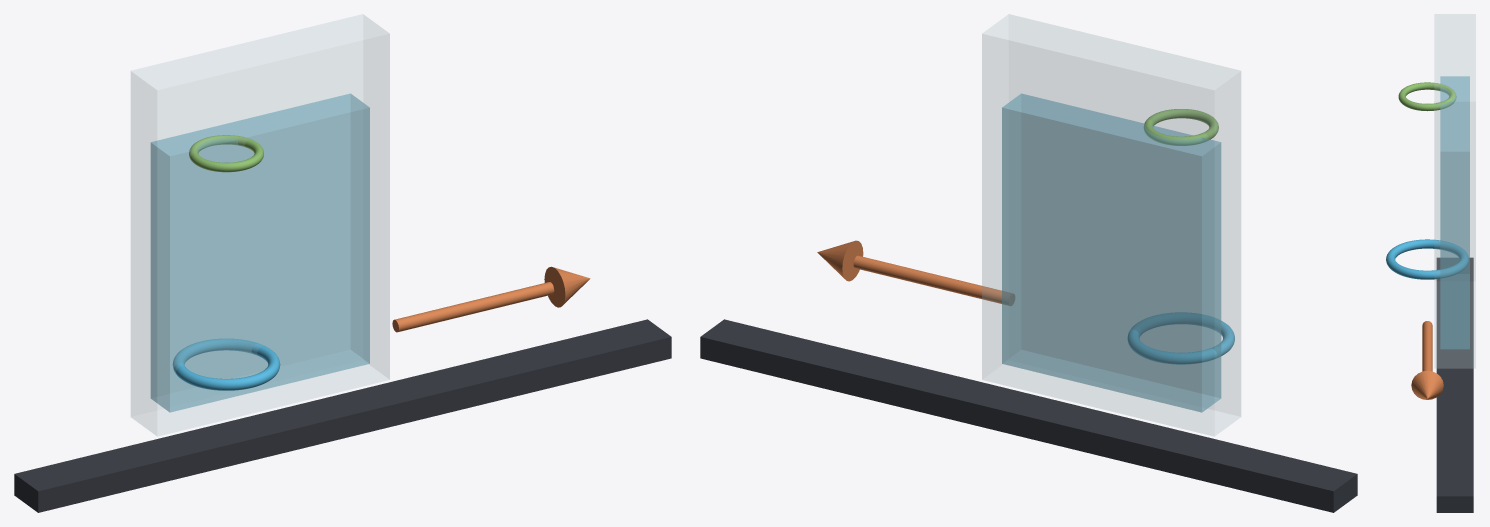
The model's file is physics-fluids-pressure.glb.
3 views of the same model, side by side, from view 1: azimuth 30°, elevation 25°; view 2: azimuth 150°, elevation 25°; view 3: azimuth 270°, elevation 25° (orthographic). The views are drawn at different scales.
Visible parts, largest first — view 1: pressure-depth-tank-glass-back, pressure-depth-tank-water-column, fluid-lab-bench, deep-gauge-high-pressure, side-push-jet-from-depth-shaft, surface-gauge-low-pressure, side-push-jet-from-depth-head; view 2: pressure-depth-tank-glass-back, pressure-depth-tank-water-column, fluid-lab-bench, deep-gauge-high-pressure, side-push-jet-from-depth-shaft, surface-gauge-low-pressure, side-push-jet-from-depth-head; view 3: pressure-depth-tank-glass-back, fluid-lab-bench, pressure-depth-tank-water-column, deep-gauge-high-pressure, surface-gauge-low-pressure, side-push-jet-from-depth-head, side-push-jet-from-depth-shaft.
Boxes of the visible parts, x1,y1,x2,y2 form: pressure-depth-tank-glass-back: (131,14,389,436); pressure-depth-tank-water-column: (150,93,369,412); fluid-lab-bench: (14,319,671,512); deep-gauge-high-pressure: (172,338,280,390); side-push-jet-from-depth-shaft: (392,282,554,332); surface-gauge-low-pressure: (189,135,263,172); side-push-jet-from-depth-head: (544,266,590,307); pressure-depth-tank-glass-back: (982,14,1240,436); pressure-depth-tank-water-column: (1002,93,1221,412); fluid-lab-bench: (700,319,1357,512); deep-gauge-high-pressure: (1127,312,1234,364); side-push-jet-from-depth-shaft: (853,255,1014,305); surface-gauge-low-pressure: (1143,109,1218,145); side-push-jet-from-depth-head: (817,240,863,281); pressure-depth-tank-glass-back: (1434,14,1475,368); fluid-lab-bench: (1436,257,1473,512); pressure-depth-tank-water-column: (1440,76,1469,349); deep-gauge-high-pressure: (1386,239,1468,279); surface-gauge-low-pressure: (1398,82,1456,111); side-push-jet-from-depth-head: (1411,370,1443,399); side-push-jet-from-depth-shaft: (1422,321,1432,371).
Size of what is drawn, in the model's own units: 2.45 by 1.46 by 0.39.
